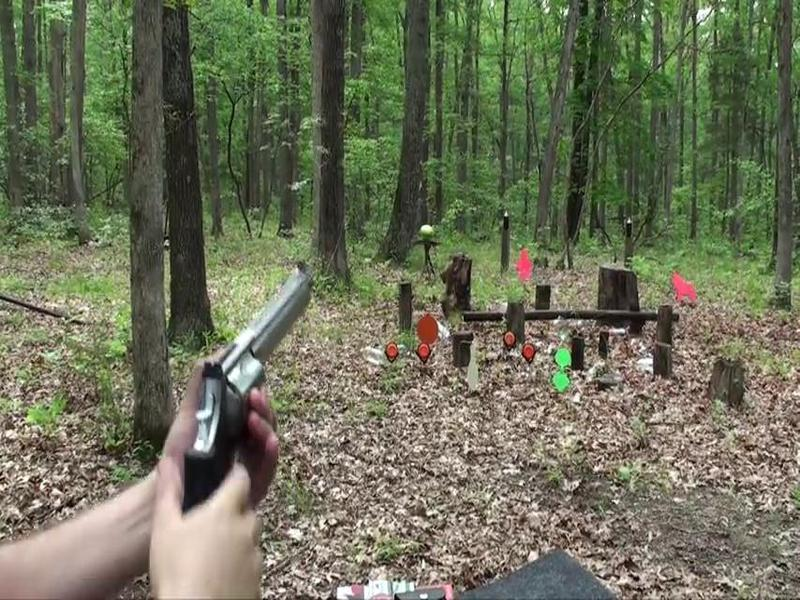Revolver: (137, 246, 351, 554)
